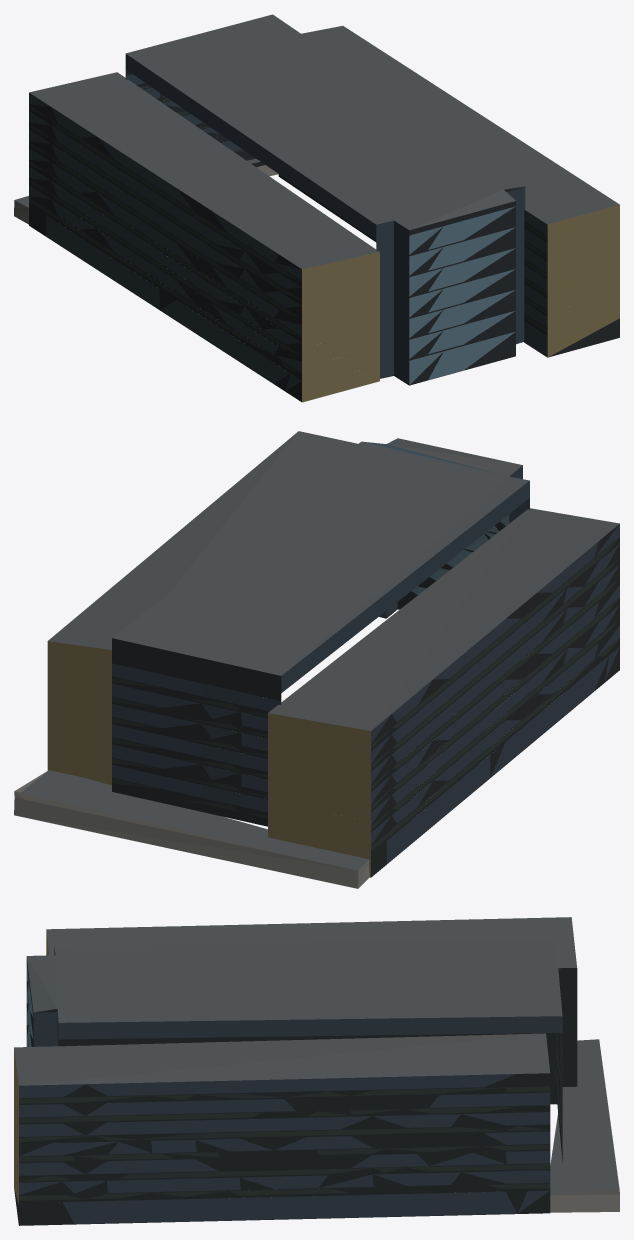
Rendered from forum-office.lod2.glb.
3 renders of one model, top to bottom at view 1: azimuth 30°, elevation 25°; view 2: azimuth 150°, elevation 25°; view 3: azimuth 270°, elevation 25°, orthographic. The views are drawn at different scales.
Parts seen in each view (by area): view 1: lod2; view 2: lod2; view 3: lod2.
Part boxes in pixels (x1,y1,x2,y2): lod2: (14, 14, 619, 402); lod2: (14, 431, 619, 888); lod2: (14, 917, 619, 1225).
Bounding box in the file's own units: 65.55 × 30.1 × 99.1.
